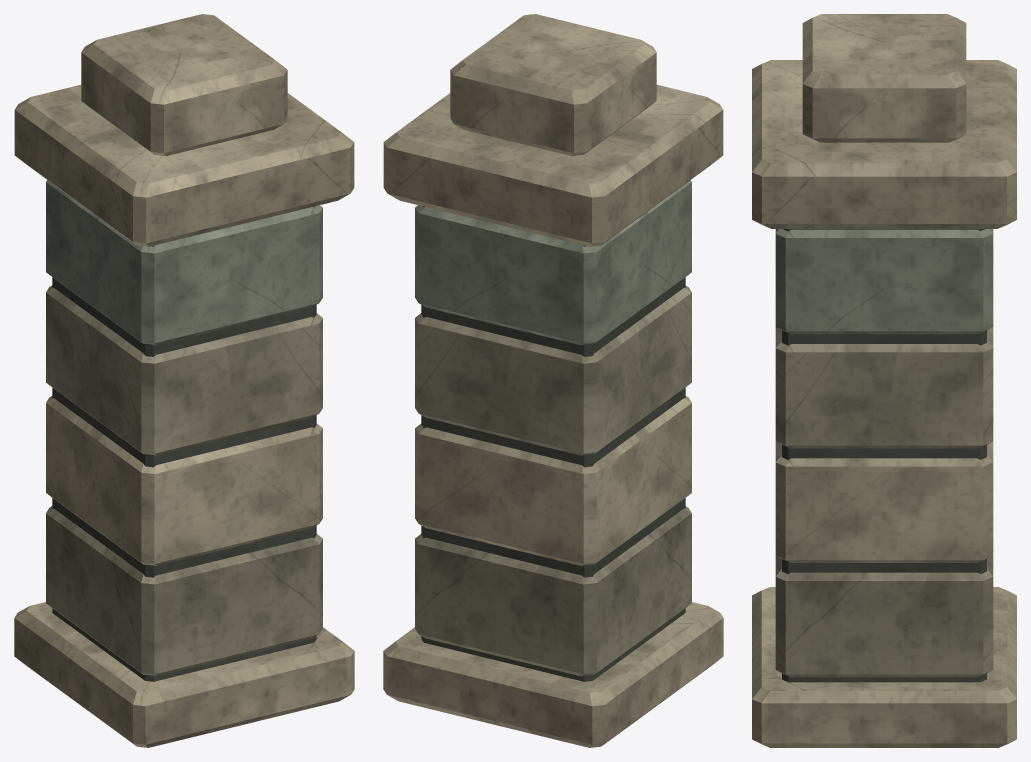
File: b04_pillar.fbx
The picture shows the model from 3 angles, left to right: view 1: azimuth 30°, elevation 25°; view 2: azimuth 150°, elevation 25°; view 3: azimuth 270°, elevation 25°; orthographic projection. The views are drawn at different scales.
Parts seen in each view (by area): view 1: b04_pillar; view 2: b04_pillar; view 3: b04_pillar.
Part boxes in pixels (box(x1,y1,x2,y2)): b04_pillar: box(14, 14, 354, 747); b04_pillar: box(383, 14, 723, 747); b04_pillar: box(752, 14, 1016, 747).
Size of the model in its own units: 8400 by 8400 by 22800.
